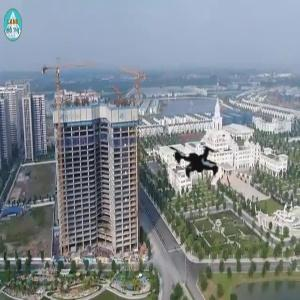drone: (132, 79, 266, 213)
